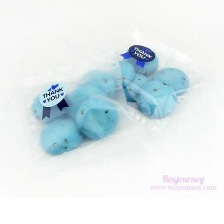snack: (3, 44, 155, 171), (91, 22, 213, 140)
